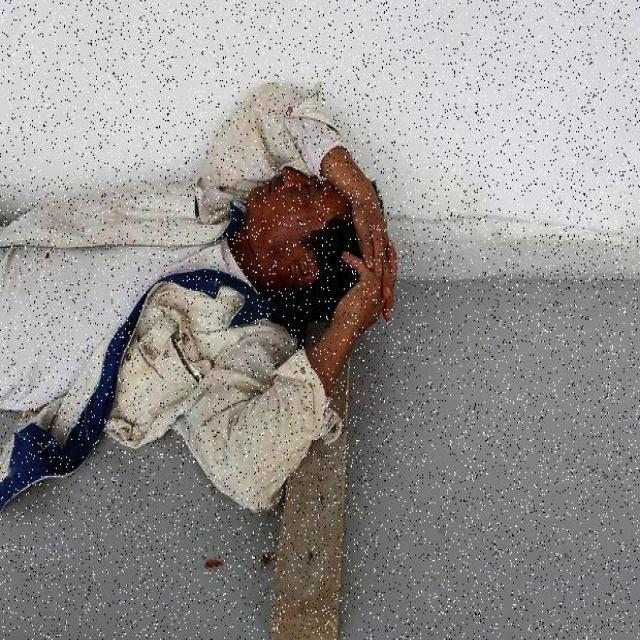fall: (1, 84, 382, 468)
